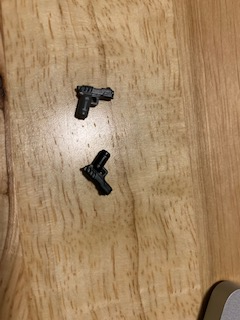pistol: (71, 79, 116, 126), (78, 148, 118, 200)
